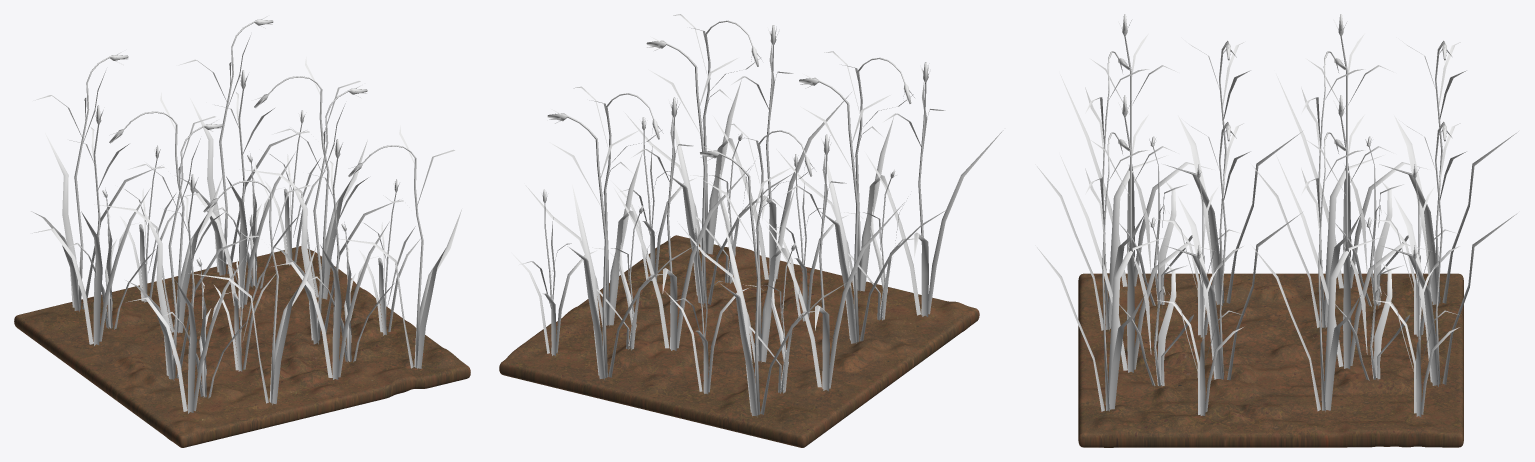
3 renders of one model, left to right at view 1: azimuth 30°, elevation 25°; view 2: azimuth 150°, elevation 25°; view 3: azimuth 270°, elevation 25°, orthographic. The views are drawn at different scales.
Parts seen in each view (by area): view 1: 栅格, Grass_PSHENO.005; view 2: 栅格, Grass_PSHENO.005; view 3: 栅格, Grass_PSHENO.005.
Boxes of the visible parts, left/top/right/bottom form: 栅格: left=14, top=246, right=470, bottom=447; Grass_PSHENO.005: left=31, top=16, right=461, bottom=413; 栅格: left=499, top=235, right=979, bottom=447; Grass_PSHENO.005: left=511, top=14, right=1003, bottom=417; 栅格: left=1078, top=273, right=1463, bottom=447; Grass_PSHENO.005: left=1035, top=14, right=1518, bottom=417.
Bounding box in the file's own units: 166 × 126 × 188.
Materials: 4 (1 with a texture image).
